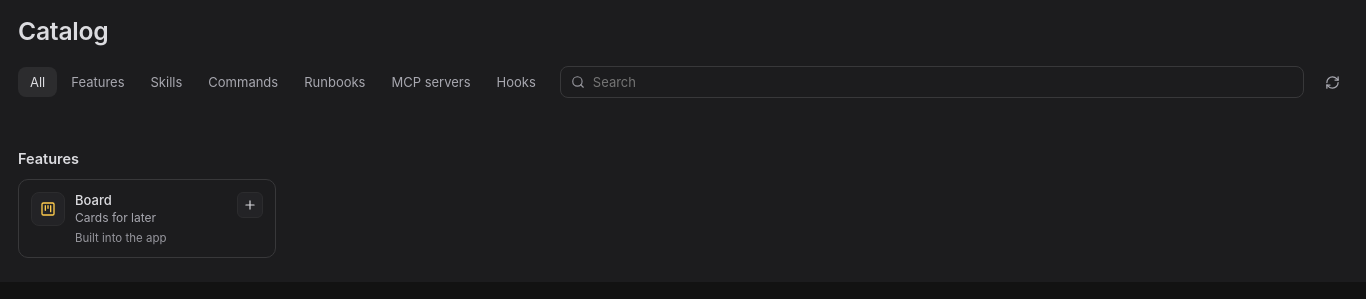
Test: features on the catalog page › a feature is a card under Features, and its panel says what the model gets and where
The width and height of the screenshot is (1366, 299).
Expected: the text "Built into the app" is shown, [75,231,166,245]
Click the button "Board Cards for later Built into the app" at (147, 218), box [18,179,276,258]
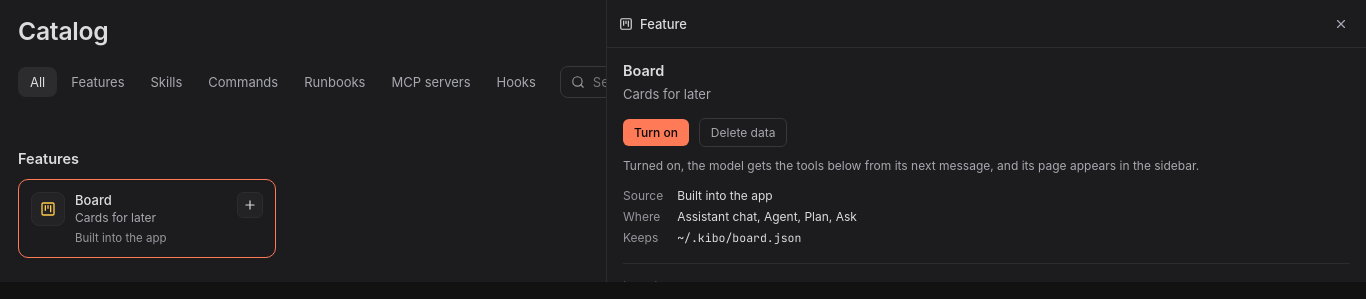
Expected: the text "Assistant chat, Agent, Plan, Ask" is shown, [677,209,857,224]
Expected: the text "~/.kibo/board.json" is shown, [677,230,801,245]
